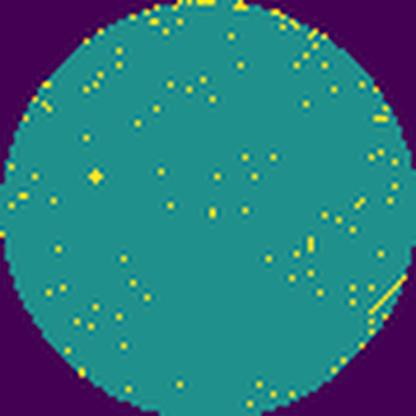Scratch: (366, 274, 408, 318)
